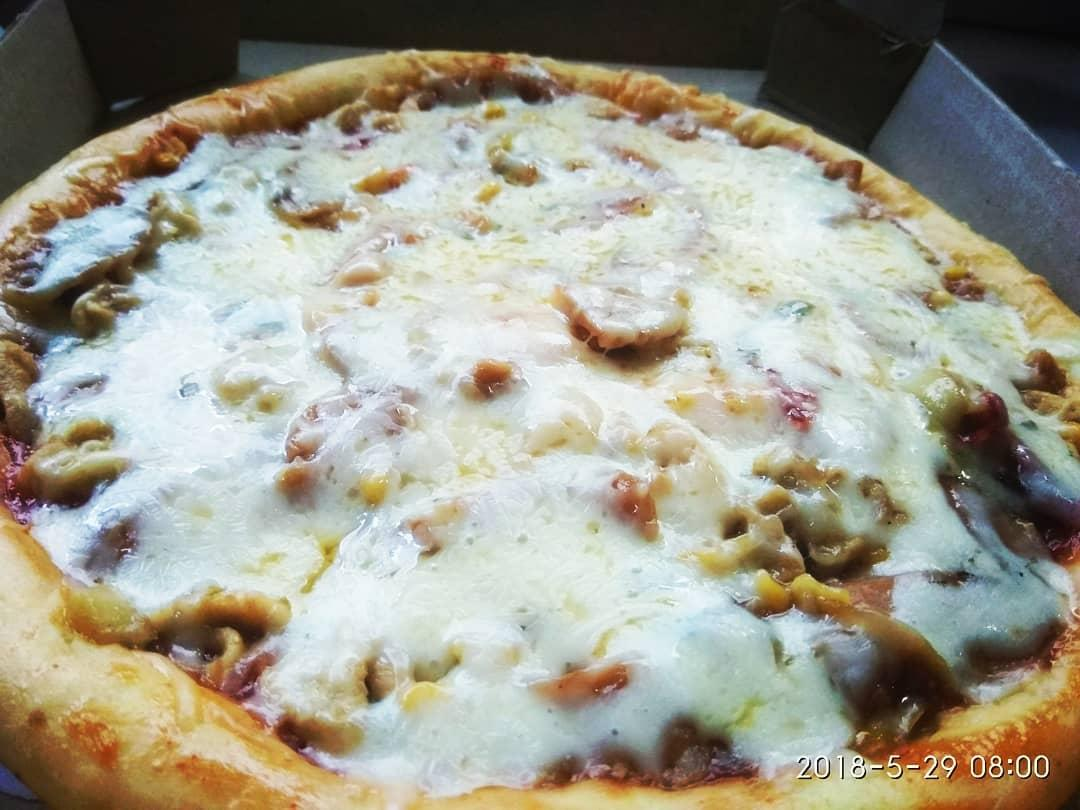Bacon: (274, 383, 405, 500), (537, 278, 703, 357), (261, 155, 410, 232), (509, 653, 647, 707), (457, 339, 533, 402), (816, 148, 873, 202)
Mushroom: (720, 467, 964, 717), (78, 568, 304, 693), (921, 379, 1080, 542), (1, 193, 193, 325), (1, 343, 139, 507), (419, 60, 583, 115)
Pizza: (0, 43, 1080, 810)
